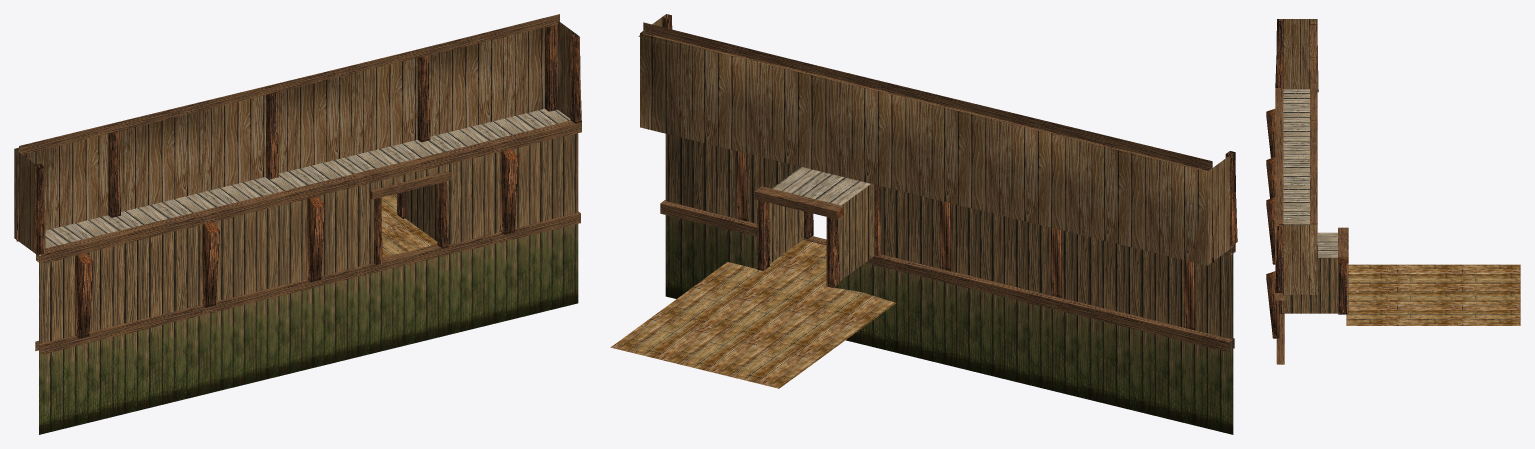
File: LAKETOWN_WAREHOUSE2_PS_WH2_SIDEWALL88477__GX.obj
3 renders of one model, left to right at view 1: azimuth 30°, elevation 25°; view 2: azimuth 150°, elevation 25°; view 3: azimuth 270°, elevation 25°, orthographic. The views are drawn at different scales.
Visible parts, largest first — view 1: deWall88477__GX; view 2: deWall88477__GX; view 3: deWall88477__GX.
Boxes of the visible parts, box(x1,y1,x2,y2) form: deWall88477__GX: box(14, 14, 581, 434); deWall88477__GX: box(610, 14, 1237, 434); deWall88477__GX: box(1266, 19, 1520, 364).
Bounding box in the file's own units: 2267 × 1095 × 1175.
